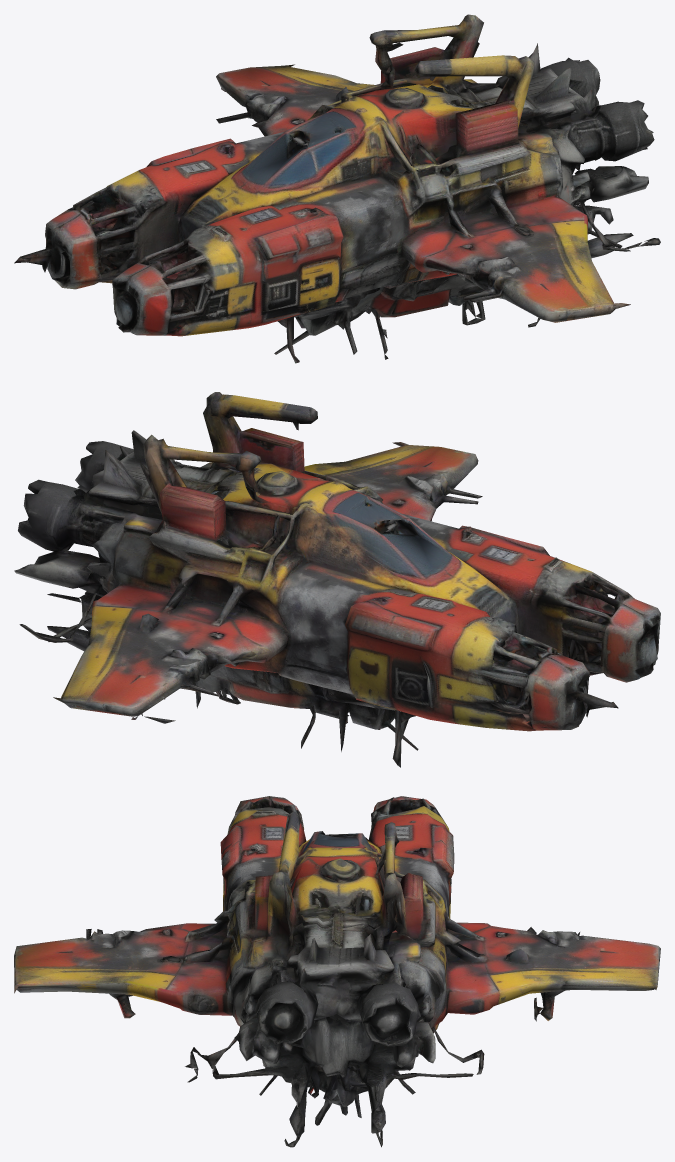
Rendered from mechanic.glb.
3 renders of one model, top to bottom at view 1: azimuth 30°, elevation 25°; view 2: azimuth 150°, elevation 25°; view 3: azimuth 270°, elevation 25°, orthographic. The views are drawn at different scales.
Size of the model in its own units: 1.98 by 0.9657 by 2.
Materials: 1 (1 with a texture image).
